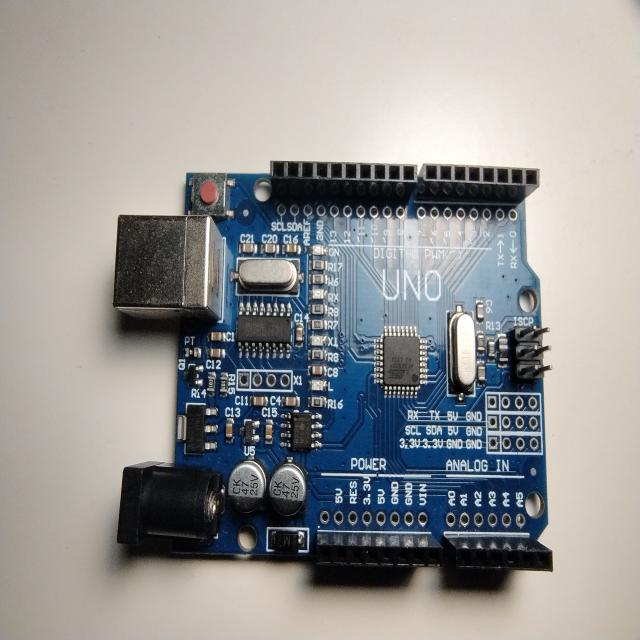arduino: (113, 140, 556, 598)
